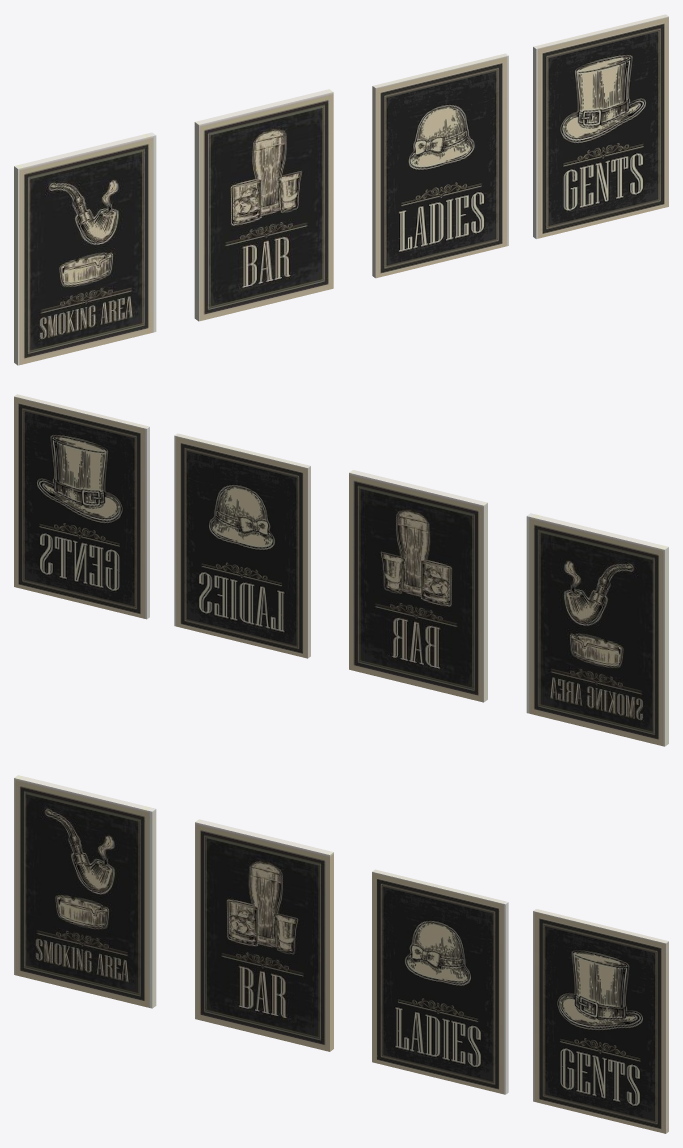
The model's file is Signs.fbx.
3 renders of one model, top to bottom at view 1: azimuth 30°, elevation 25°; view 2: azimuth 150°, elevation 25°; view 3: azimuth 330°, elevation 25°, orthographic.
Parts seen in each view (by area): view 1: SA Area, Bar Sign, Gents Sign, Ladies Sign; view 2: SA Area, Bar Sign, Gents Sign, Ladies Sign; view 3: SA Area, Bar Sign, Gents Sign, Ladies Sign.
Boxes of the visible parts, x1,y1,x2,y2 form: SA Area: (14, 132, 156, 365); Bar Sign: (194, 89, 333, 321); Gents Sign: (372, 53, 508, 278); Ladies Sign: (533, 14, 668, 238); SA Area: (526, 513, 668, 746); Bar Sign: (349, 470, 487, 702); Gents Sign: (174, 433, 310, 658); Ladies Sign: (14, 394, 149, 619); SA Area: (14, 775, 156, 1008); Bar Sign: (195, 819, 333, 1051); Gents Sign: (372, 869, 508, 1094); Ladies Sign: (533, 909, 668, 1133).
Bounding box in the file's own units: 326 × 94.17 × 3.53.
Materials: 2 (2 with a texture image).
